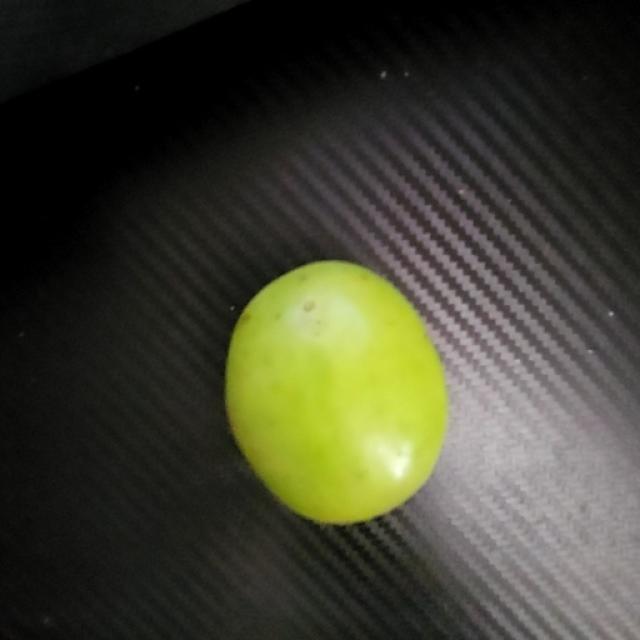Red: (222, 257, 450, 527)
